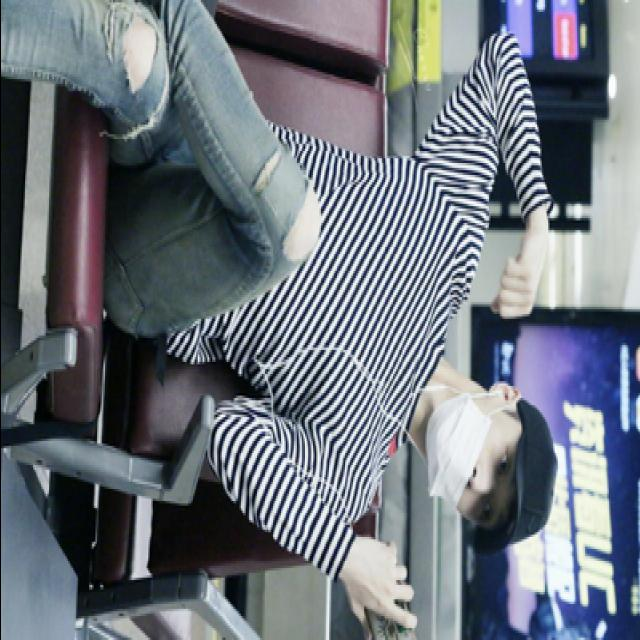mask_weared_incorrect: (428, 398, 518, 525)
